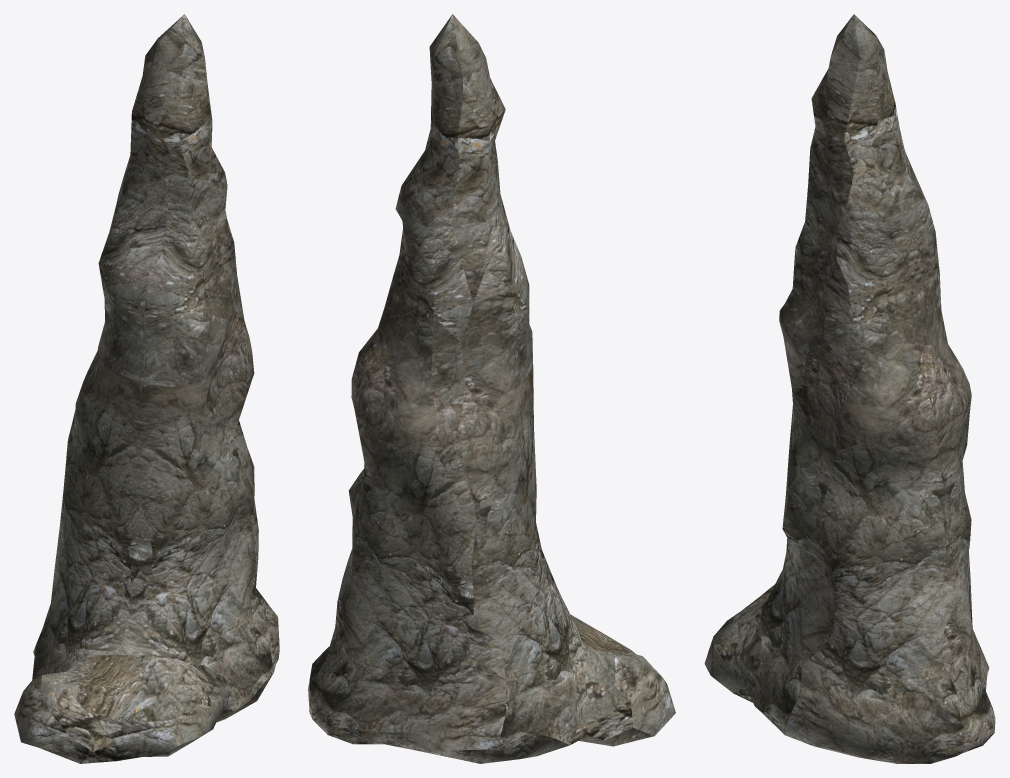
Rendered from Pico04.fbx.
3 renders of one model, left to right at view 1: azimuth 30°, elevation 25°; view 2: azimuth 150°, elevation 25°; view 3: azimuth 270°, elevation 25°, orthographic. The views are drawn at different scales.
Visible parts, largest first — view 1: Stalagmite - Tall 2; view 2: Stalagmite - Tall 2; view 3: Stalagmite - Tall 2.
Part boxes in pixels (x1,y1,x2,y2): Stalagmite - Tall 2: (14,14,279,763); Stalagmite - Tall 2: (308,14,675,763); Stalagmite - Tall 2: (704,14,995,763).
Bounding box in the file's own units: 452 × 1014 × 376.
